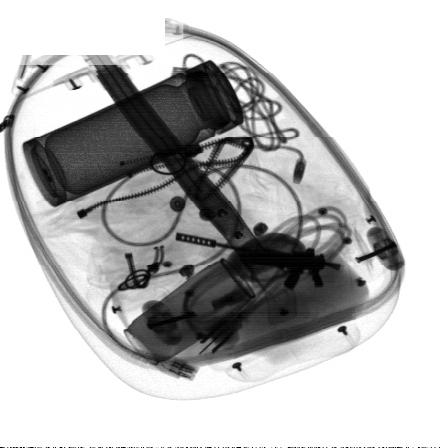Gun: (173, 232, 342, 291)
